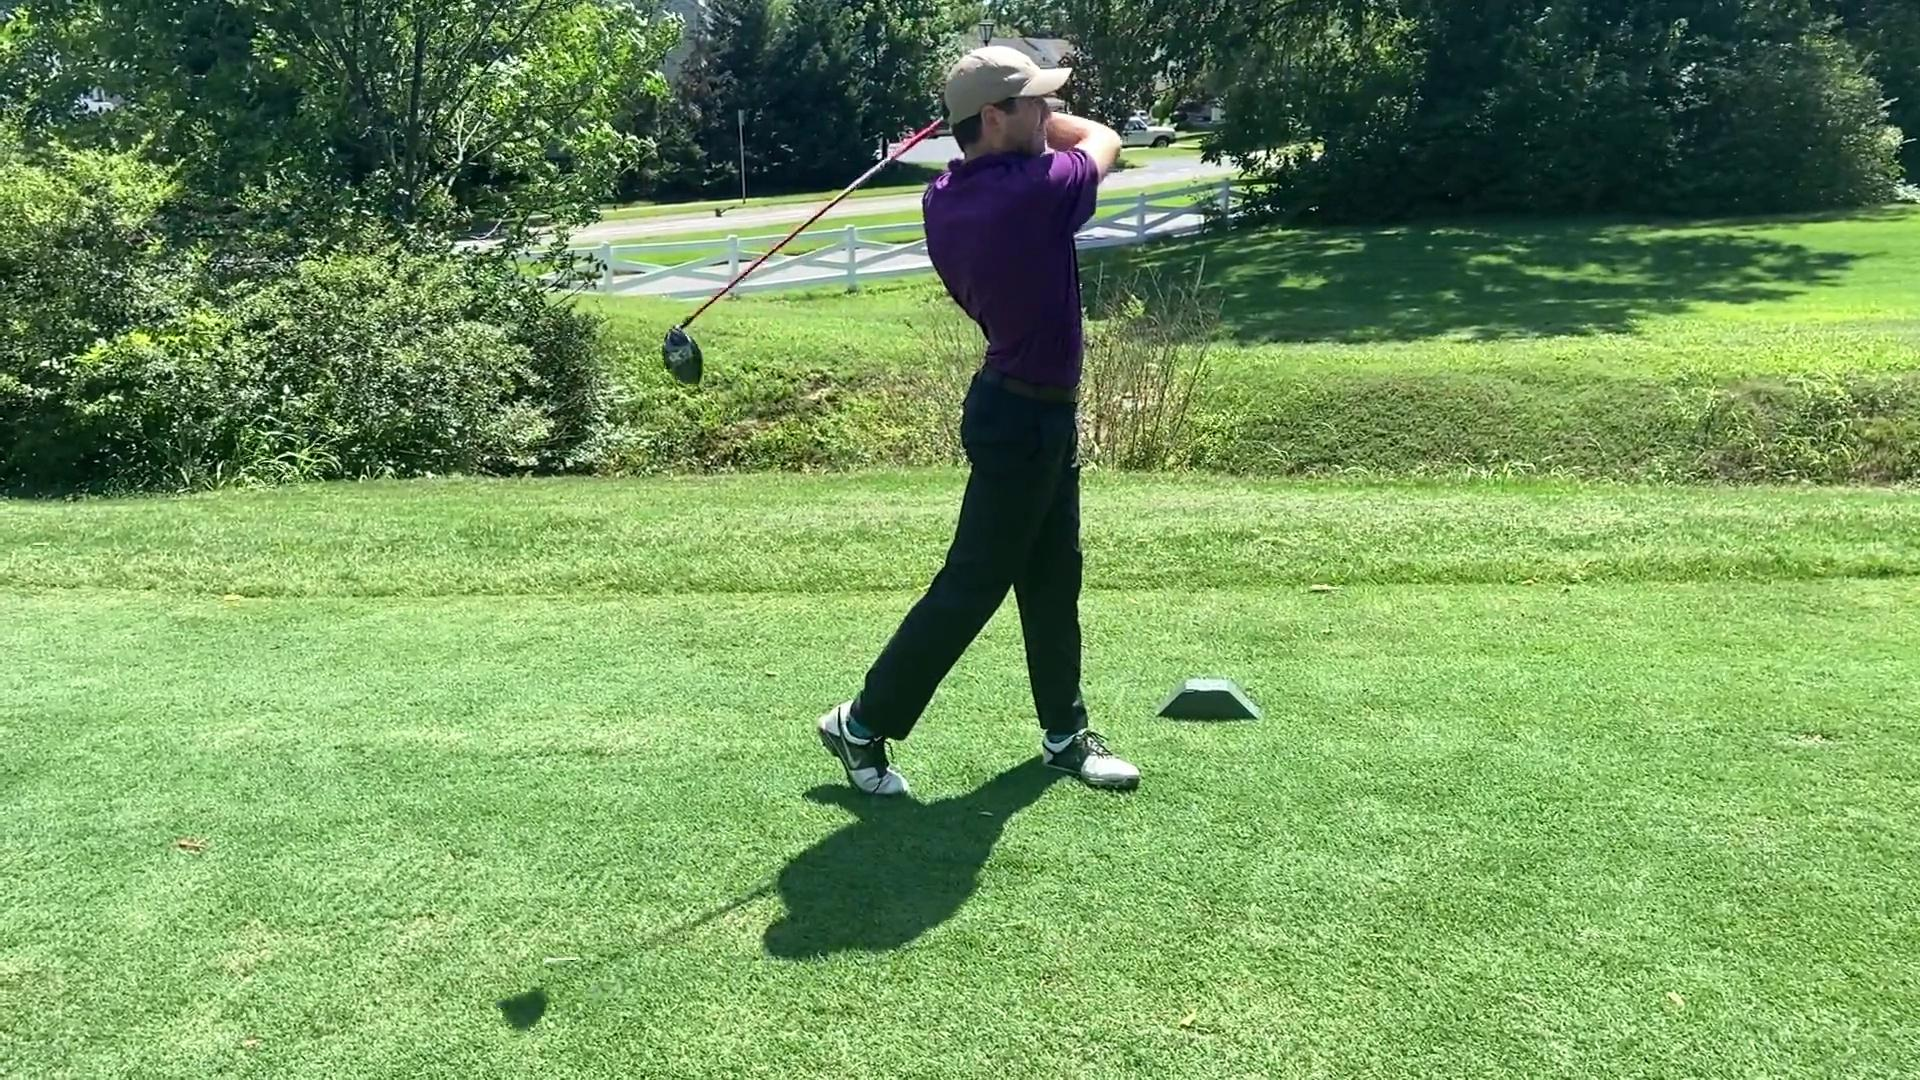ClubHead: (658, 313, 708, 386)
